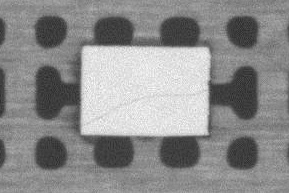DIE_CRACK: (93, 91, 204, 124)
